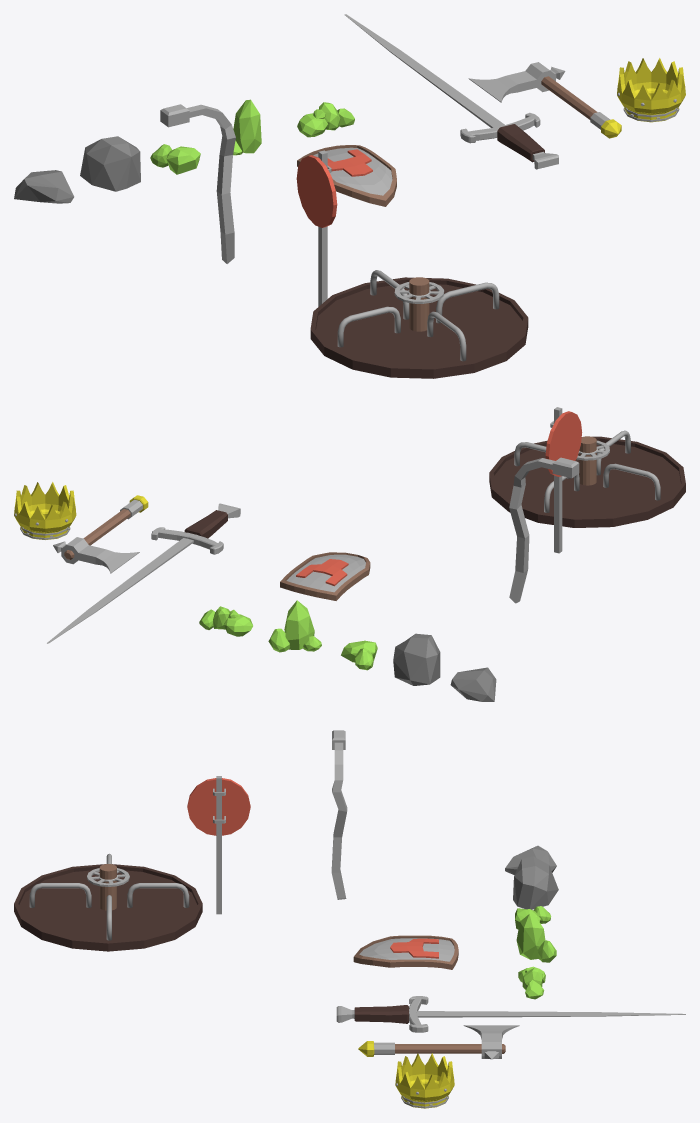
The model's file is GGJ PROPS FINAL.fbx.
The picture shows the model from 3 angles, top to bottom: view 1: azimuth 30°, elevation 25°; view 2: azimuth 150°, elevation 25°; view 3: azimuth 270°, elevation 25°; orthographic projection. The views are drawn at different scales.
Visible parts, largest first — view 1: Cylinder.003, Cube, Circle, Cube.015, Cube.020, Cube.016, Cube.017, Cube.001, Cube.003, Cube.002, Cube.022, Cube.031; view 2: Cylinder.003, Cube.015, Cube, Circle, Cube.016, Cube.017, Cube.020, Cube.001, Cube.002, Cube.003, Cube.022, Cube.031; view 3: Cylinder.003, Cube.020, Cube, Cube.015, Circle, Cube.017, Cube.001, Cube.016, Cube.002, Cube.022, Cube.003.
Boxes of the visible parts, left/top/right/bottom form: Cylinder.003: left=310, top=270, right=528, bottom=378; Cube: left=344, top=14, right=558, bottom=169; Circle: left=617, top=58, right=685, bottom=122; Cube.015: left=297, top=145, right=396, bottom=206; Cube.020: left=296, top=150, right=337, bottom=306; Cube.016: left=160, top=104, right=235, bottom=263; Cube.017: left=468, top=62, right=621, bottom=138; Cube.001: left=80, top=136, right=140, bottom=191; Cube.003: left=14, top=170, right=74, bottom=203; Cube.002: left=233, top=99, right=261, bottom=155; Cube.022: left=297, top=102, right=354, bottom=137; Cube.031: left=150, top=144, right=200, bottom=174; Cylinder.003: left=489, top=430, right=685, bottom=527; Cube.015: left=280, top=552, right=370, bottom=600; Cube: left=47, top=503, right=240, bottom=643; Circle: left=14, top=482, right=76, bottom=539; Cube.016: left=509, top=457, right=579, bottom=603; Cube.017: left=53, top=495, right=148, bottom=573; Cube.020: left=545, top=407, right=582, bottom=553; Cube.001: left=393, top=633, right=440, bottom=685; Cube.002: left=268, top=600, right=321, bottom=652; Cube.003: left=450, top=667, right=496, bottom=701; Cube.022: left=199, top=606, right=252, bottom=636; Cube.031: left=341, top=640, right=377, bottom=670; Cylinder.003: left=14, top=853, right=202, bottom=951; Cube.020: left=187, top=776, right=250, bottom=914; Cube: left=336, top=996, right=685, bottom=1032; Cube.015: left=353, top=935, right=458, bottom=969; Circle: left=395, top=1053, right=454, bottom=1108; Cube.017: left=358, top=1025, right=519, bottom=1059; Cube.001: left=513, top=856, right=558, bottom=909; Cube.016: left=331, top=730, right=347, bottom=899; Cube.002: left=516, top=914, right=556, bottom=962; Cube.022: left=518, top=966, right=545, bottom=999; Cube.003: left=505, top=845, right=556, bottom=874.
Bounding box in the file's own units: 359 × 99.43 × 407.
